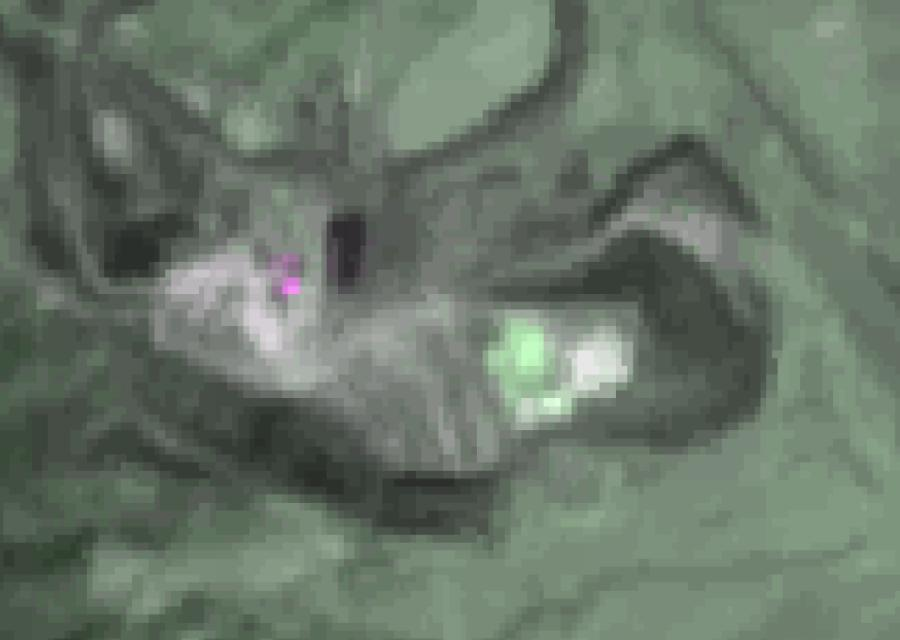Potential Lime Manufacturing Facility: (282, 276, 301, 293)
